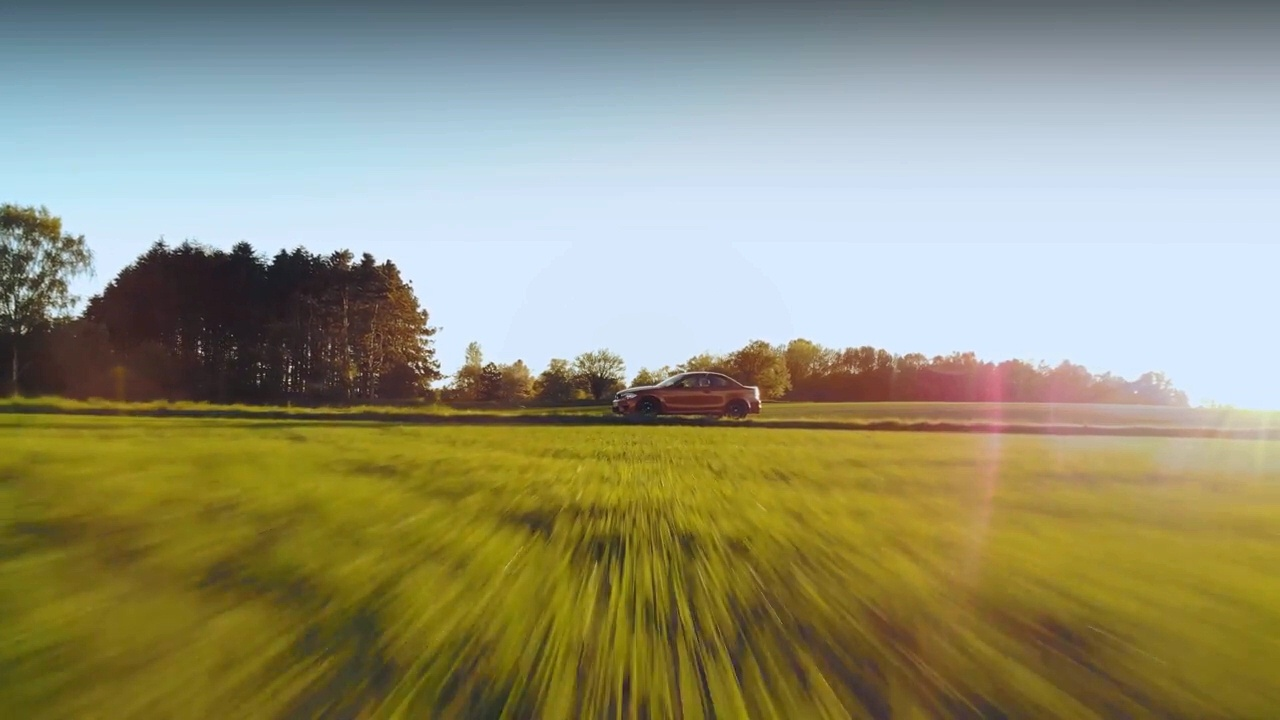araba: (607, 370, 763, 422)
